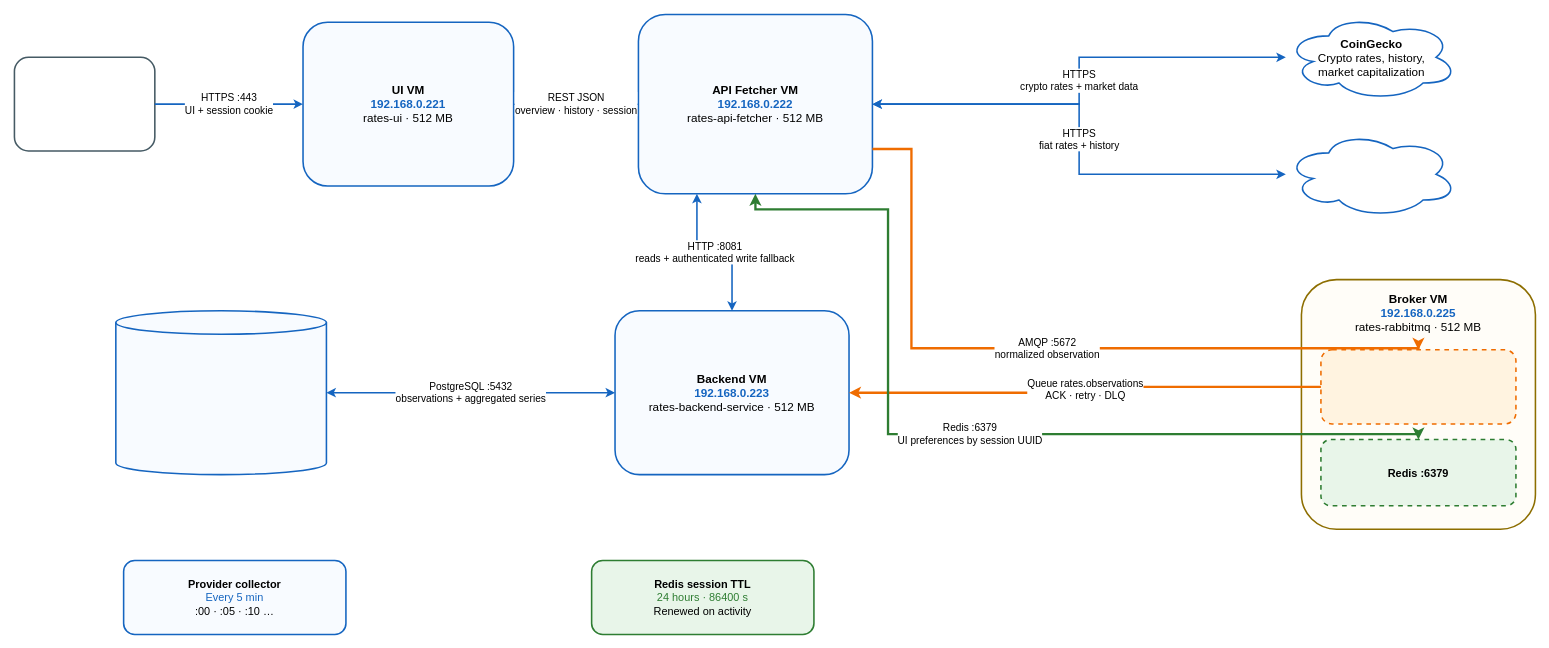
This 1549x648 diagram has some shape labels left out. Each missing label, with the centre of its shape:
"Browser 192.168.0.103" goes at point 84,103.
"Database VM 192.168.0.224 rates-db · 512 MB" goes at point 221,392.
"Frankfurter Fiat reference rates and daily history" goes at point 1371,174.
"RabbitMQ :5672" goes at point 1418,386.
